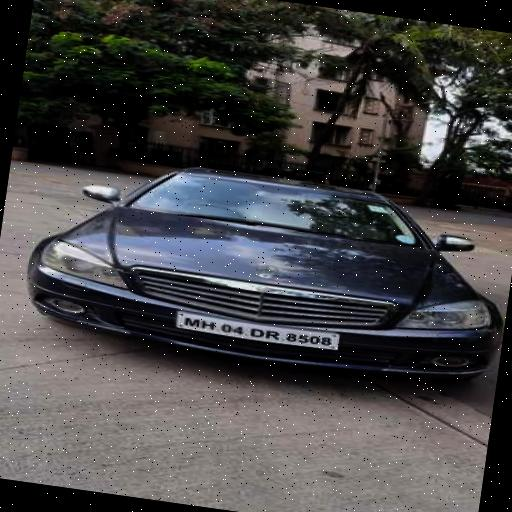license_plate`: (174, 308, 339, 350)
